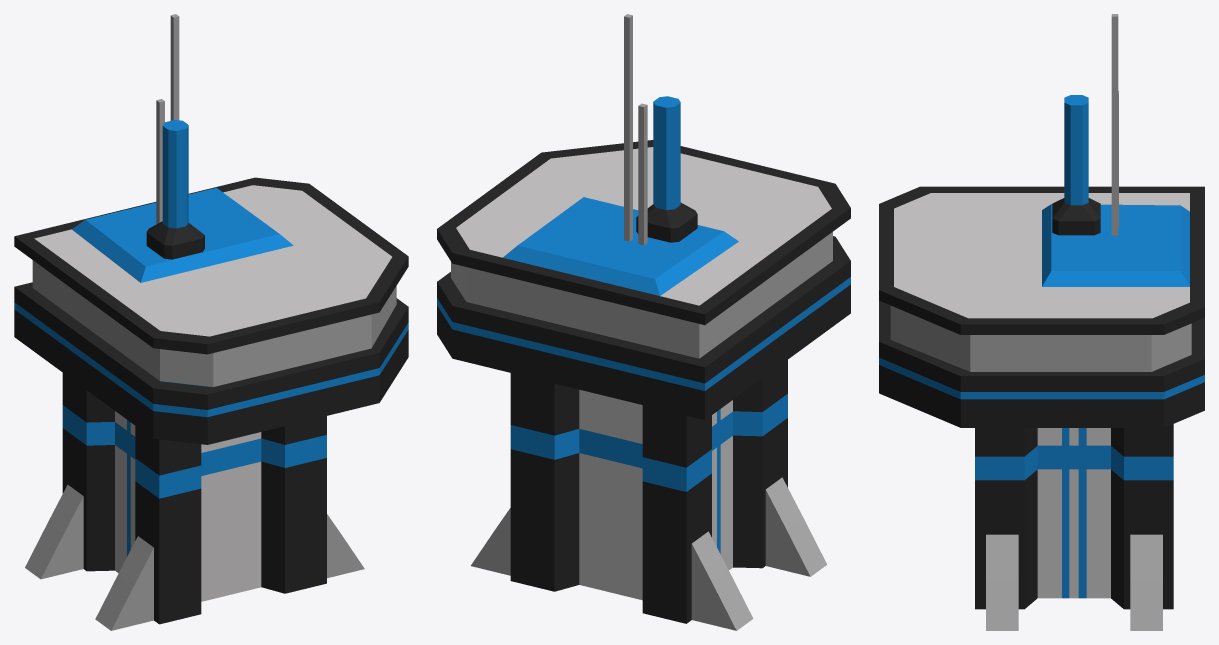
Rendered from ControlCenter.fbx.
3 renders of one model, left to right at view 1: azimuth 30°, elevation 25°; view 2: azimuth 150°, elevation 25°; view 3: azimuth 270°, elevation 25°, orthographic. The views are drawn at different scales.
Parts seen in each view (by area): view 1: Control, Base, Light, Cell1, GL4, GL3, GL2, Cell2, Cell3; view 2: Control, Base, Light, Cell1, GL4, GL3, Cell2, GL1, Cell3; view 3: Control, Base, Light, Cell1, GL1, GL2, Cell2.
Part boxes in pixels (x1=…): Control: x1=14, y1=177, x2=408, y2=444; Base: x1=62, y1=373, x2=326, y2=624; Light: x1=32, y1=260, x2=396, y2=386; Cell1: x1=146, y1=120, x2=204, y2=259; GL4: x1=25, y1=484, x2=83, y2=579; GL3: x1=95, y1=536, x2=153, y2=630; GL2: x1=327, y1=514, x2=364, y2=578; Cell2: x1=170, y1=14, x2=179, y2=120; Cell3: x1=156, y1=99, x2=164, y2=224; Control: x1=437, y1=140, x2=850, y2=420; Base: x1=510, y1=360, x2=787, y2=623; Light: x1=451, y1=232, x2=832, y2=358; Cell1: x1=636, y1=96, x2=697, y2=242; GL4: x1=691, y1=531, x2=753, y2=630; GL3: x1=765, y1=477, x2=827, y2=576; Cell2: x1=624, y1=14, x2=632, y2=241; GL1: x1=471, y1=508, x2=510, y2=575; Cell3: x1=638, y1=103, x2=647, y2=245; Control: x1=879, y1=186, x2=1204, y2=427; Base: x1=975, y1=424, x2=1173, y2=609; Light: x1=890, y1=305, x2=1191, y2=371; Cell1: x1=1052, y1=95, x2=1100, y2=235; GL1: x1=1130, y1=534, x2=1162, y2=630; GL2: x1=986, y1=534, x2=1018, y2=630; Cell2: x1=1111, y1=14, x2=1118, y2=235.
Bounding box in the file's own units: 9.9 × 17.86 × 9.55.
